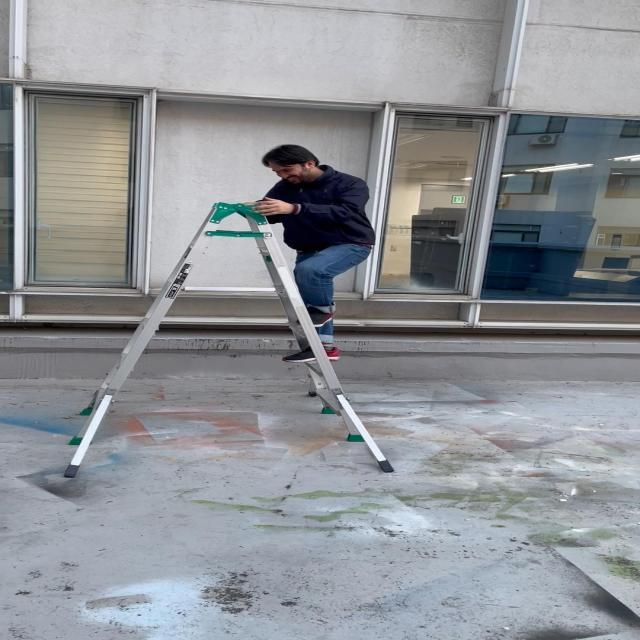boots: (58, 197, 398, 481)
vest: (250, 141, 382, 367)
